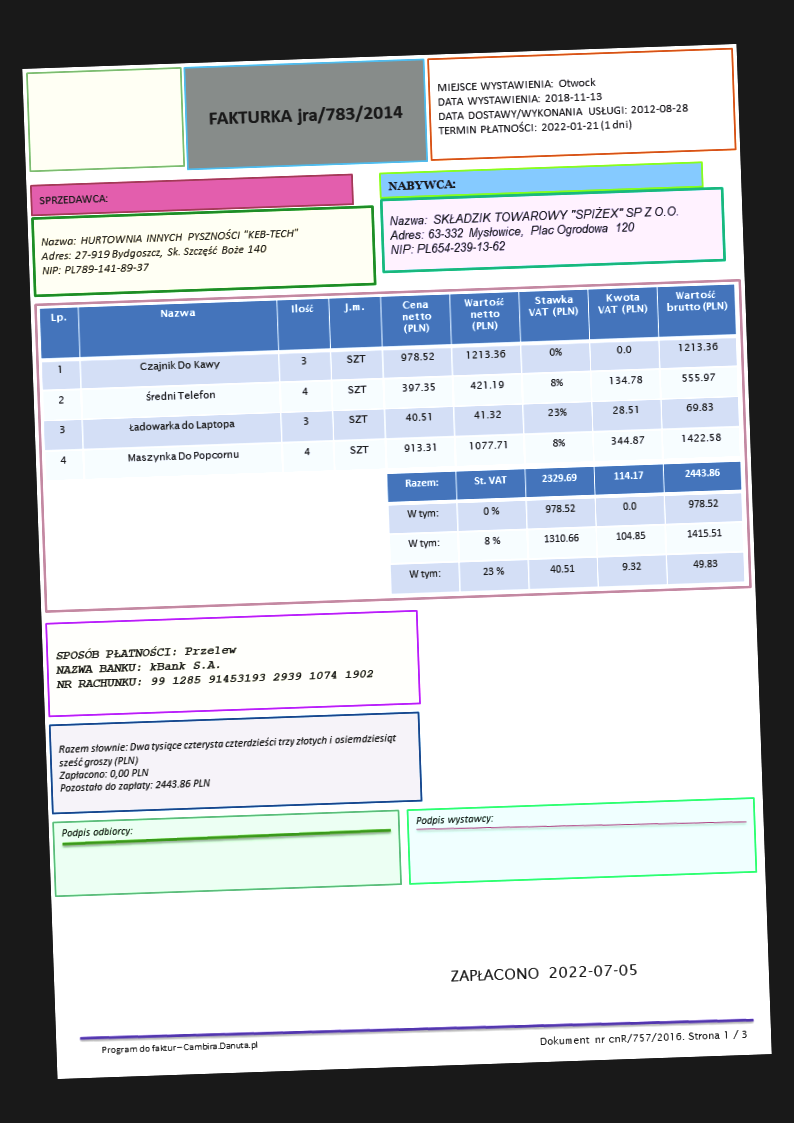Table: (38, 282, 741, 482), (386, 459, 744, 595)
TextBox: (56, 729, 400, 796), (54, 635, 375, 694), (434, 70, 693, 139), (386, 201, 681, 261), (38, 224, 301, 281), (205, 101, 406, 129), (447, 959, 638, 985), (538, 1026, 750, 1049), (99, 1036, 261, 1057), (412, 810, 495, 830), (35, 189, 109, 209), (59, 822, 134, 841), (385, 175, 458, 194)
